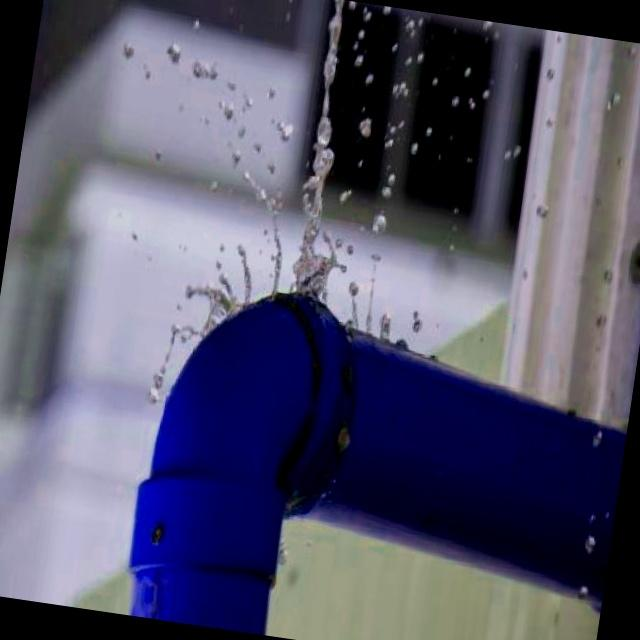Leak: (133, 205, 436, 382)
